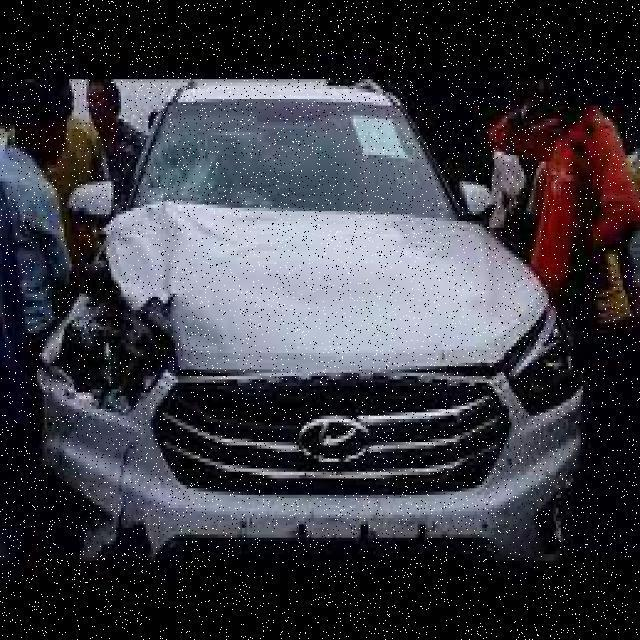headlight: (69, 201, 531, 396)
